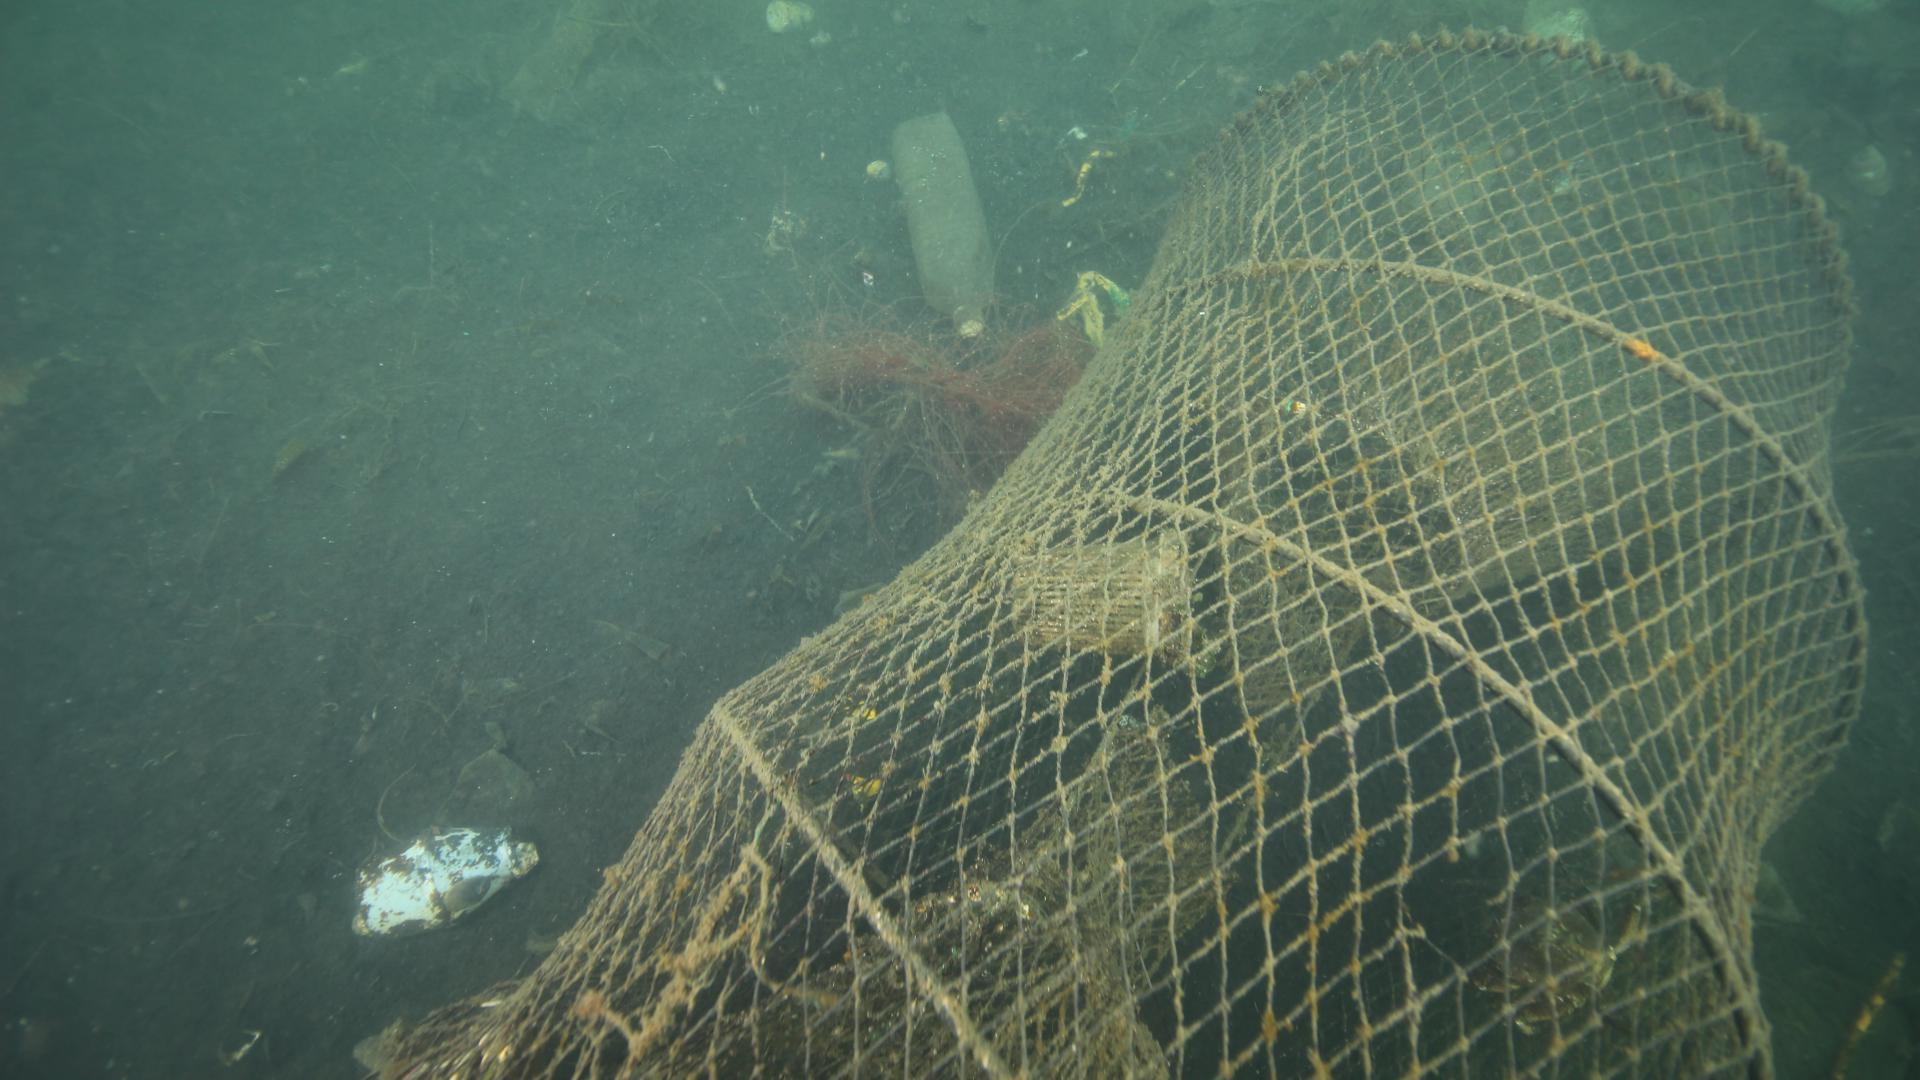spring fish trap: (348, 22, 1876, 1080)
